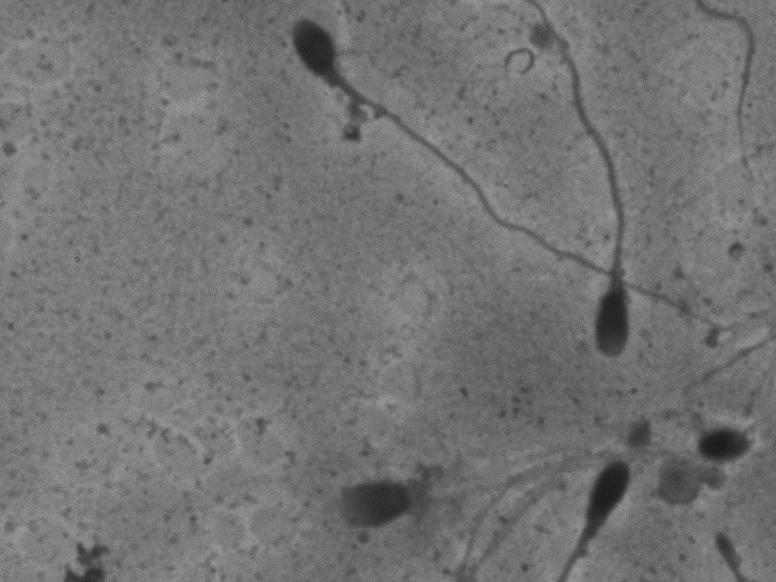Abnormal: (265, 11, 736, 342), (525, 4, 651, 365)
